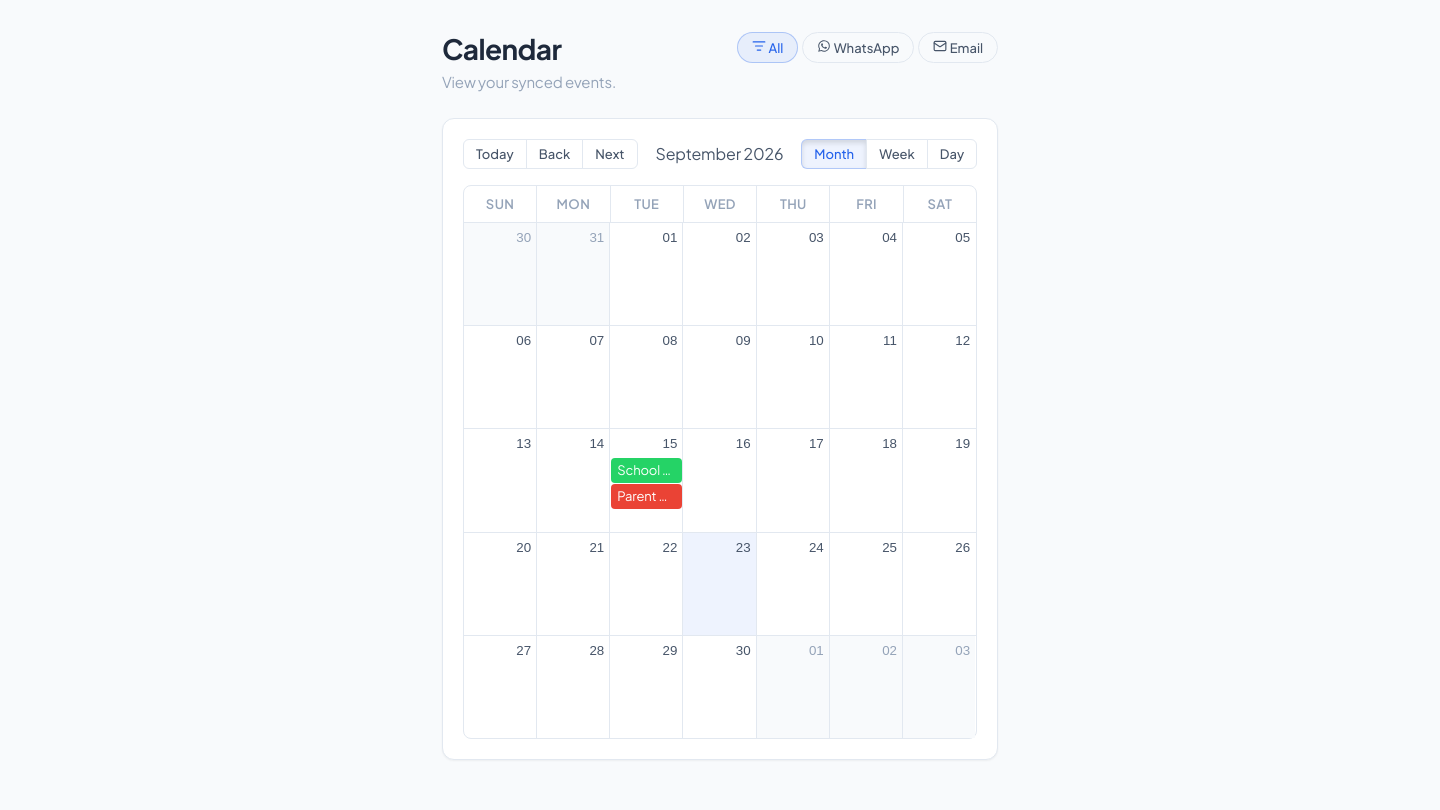
Test: CalendarPage › opens event detail modal on event click
Expected: the heading "Calendar" is shown, [442,31,561,66]
Click the element with class "rbc-event" showing "School Trip". click: (647, 471)
box: [611,458,682,483]
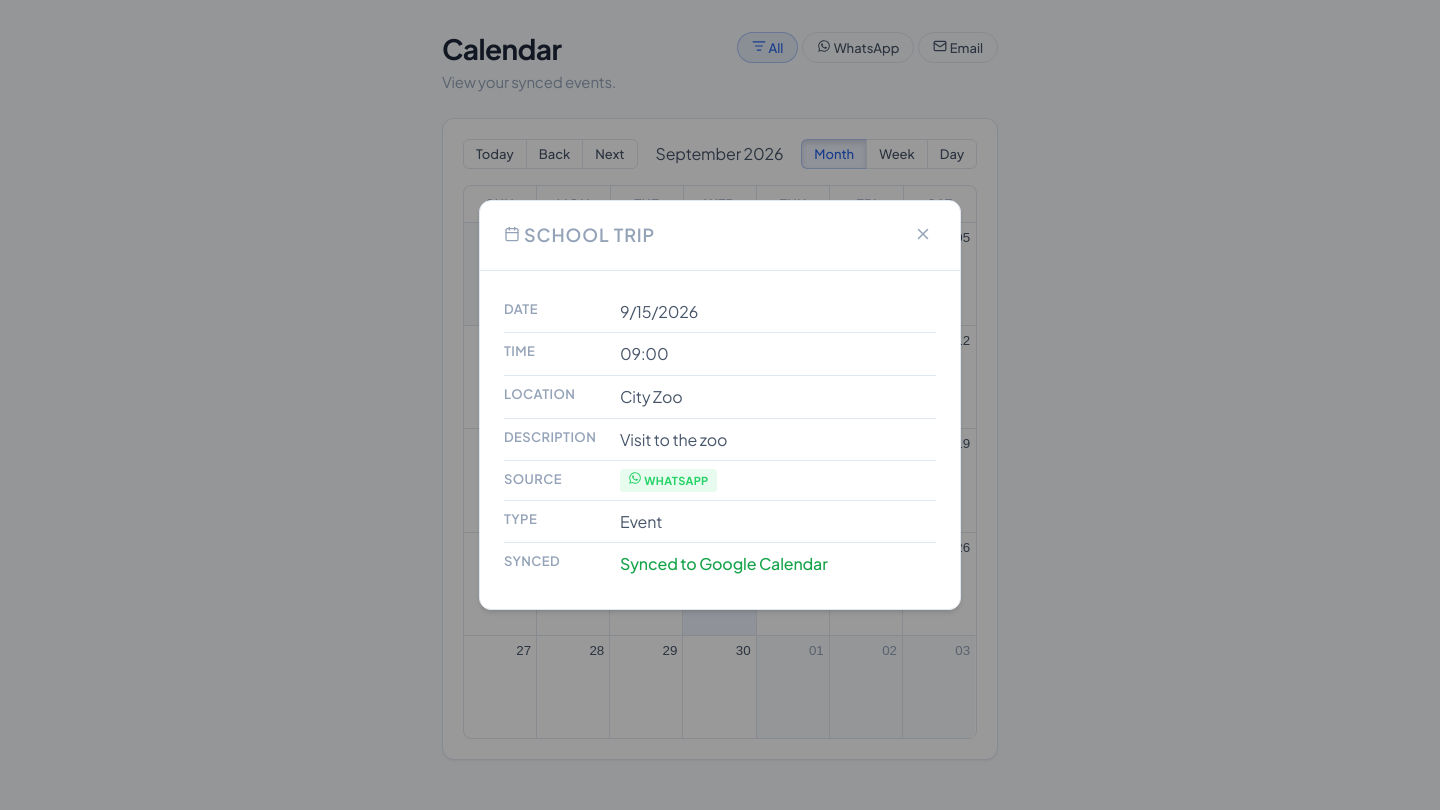
Expected: the text "City Zoo" is shown, [620,384,683,410]
